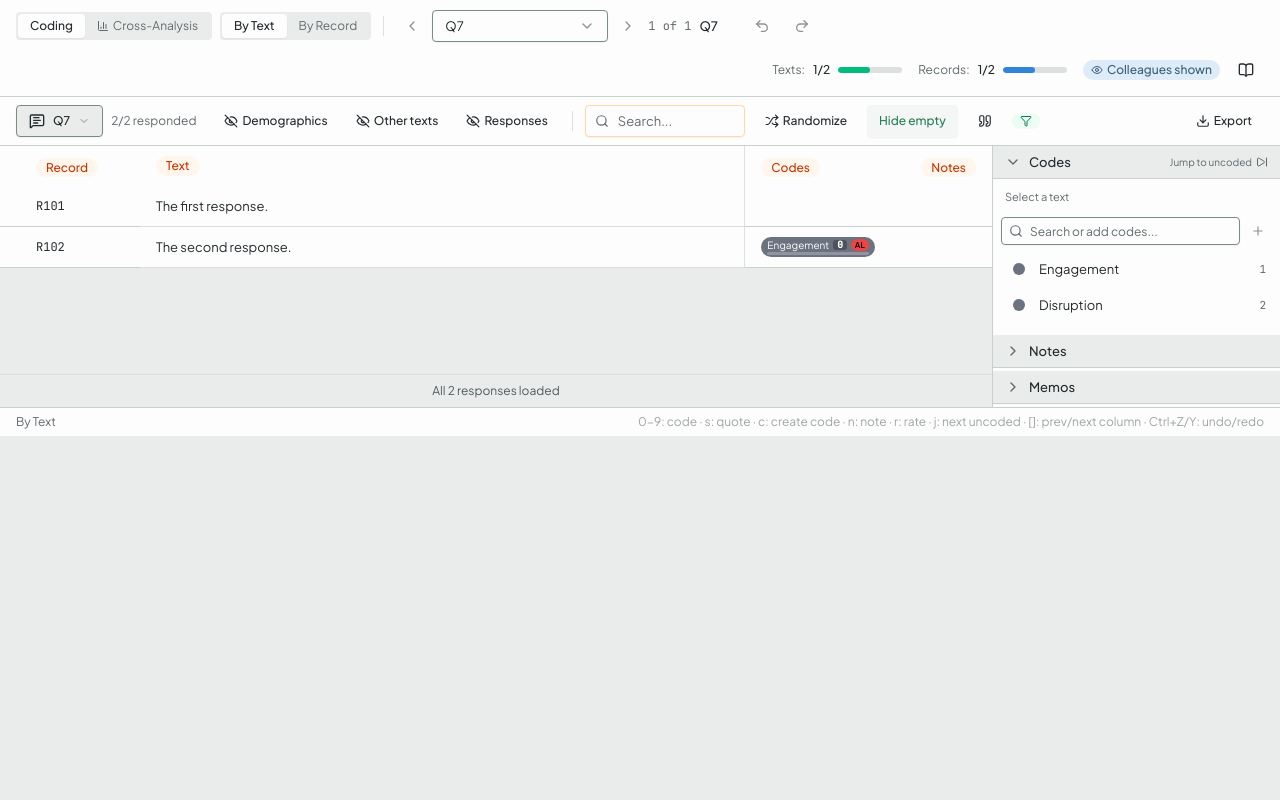
#964 — while the roster has not answered, colleagues stay hidden › re-blinding hides an archived colleague's chips even after "View all" was switched on
Step 1. Click the button named "Filter codes by coder" → (1026, 121), box [1012,113,1040,129]
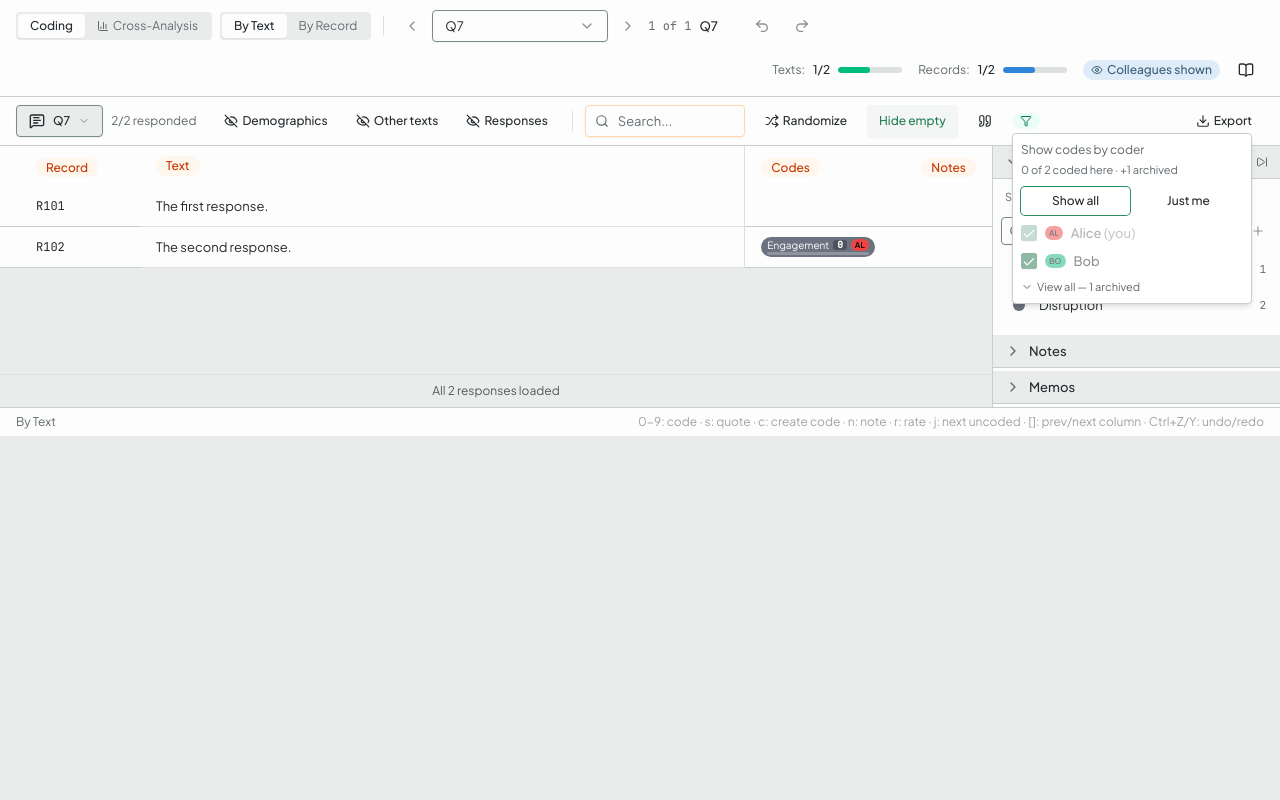
Step 2. Click the button "View all — 1 archived" → (1081, 287), box [1021,278,1140,295]
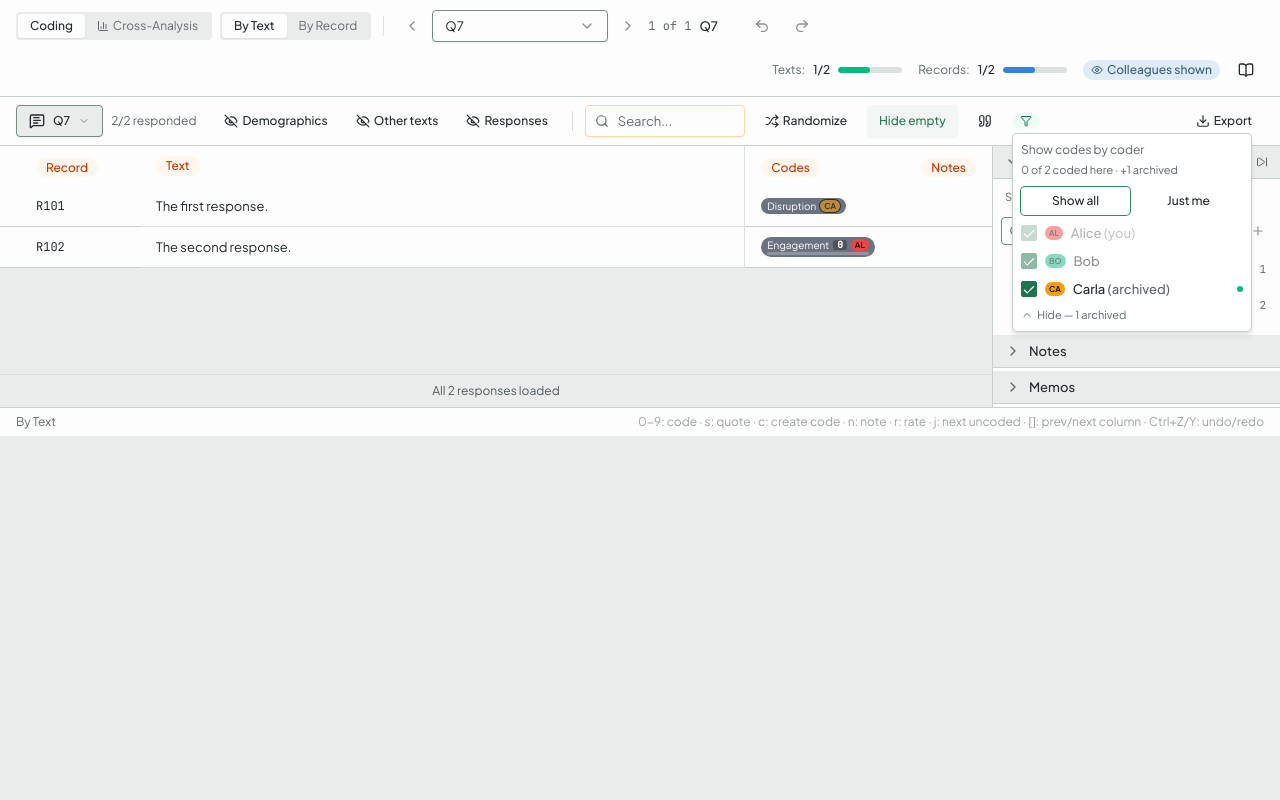
Step 3. Click the button "Colleagues shown" → (1151, 70), box [1083,60,1220,80]
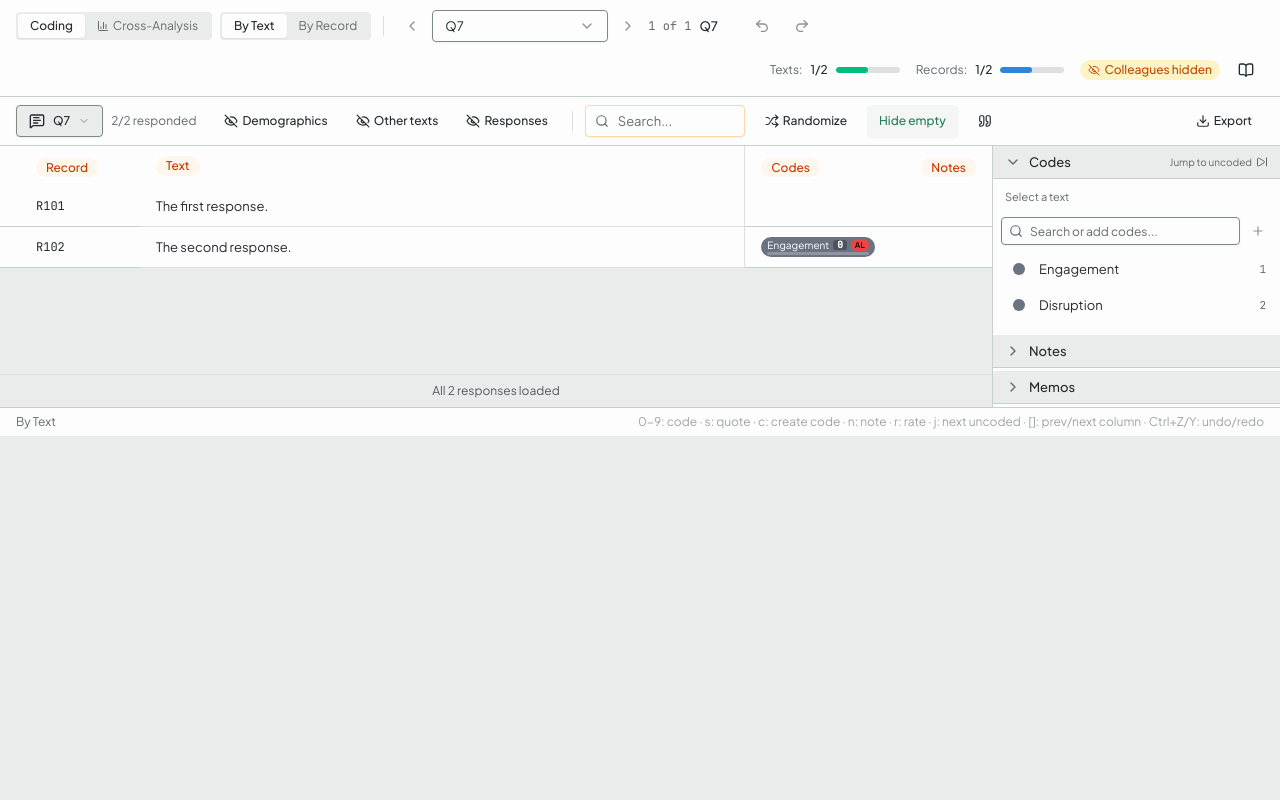
Expected: the text "coded by Carla" is not shown
Result: the button "Colleagues hidden" is shown at [1080,60,1220,80]
